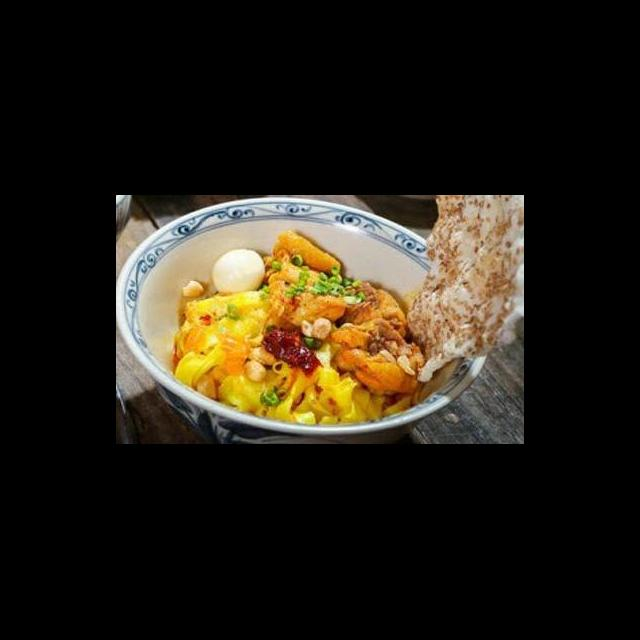banh da: (403, 196, 523, 386)
mi: (171, 288, 385, 428)
trung: (208, 246, 268, 298)
